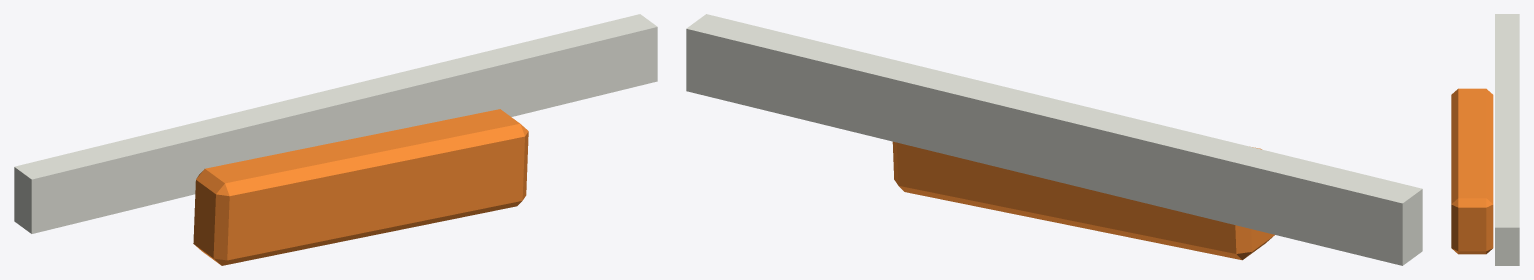
File: vortex_generator_kit.glb
3 renders of one model, left to right at view 1: azimuth 30°, elevation 25°; view 2: azimuth 150°, elevation 25°; view 3: azimuth 270°, elevation 25°, orthographic. The views are drawn at different scales.
Visible parts, largest first — view 1: slat.001, upgrade_wing_device.001; view 2: slat.001, upgrade_wing_device.001; view 3: upgrade_wing_device.001, slat.001.
Part boxes in pixels (x1,y1,x2,y2): slat.001: (14,14,657,233); upgrade_wing_device.001: (193,109,528,265); slat.001: (686,14,1422,265); upgrade_wing_device.001: (892,141,1274,260); upgrade_wing_device.001: (1451,88,1493,254); slat.001: (1495,14,1519,265).
Bounding box in the file's own units: 1.44 × 0.2625 × 0.195.
